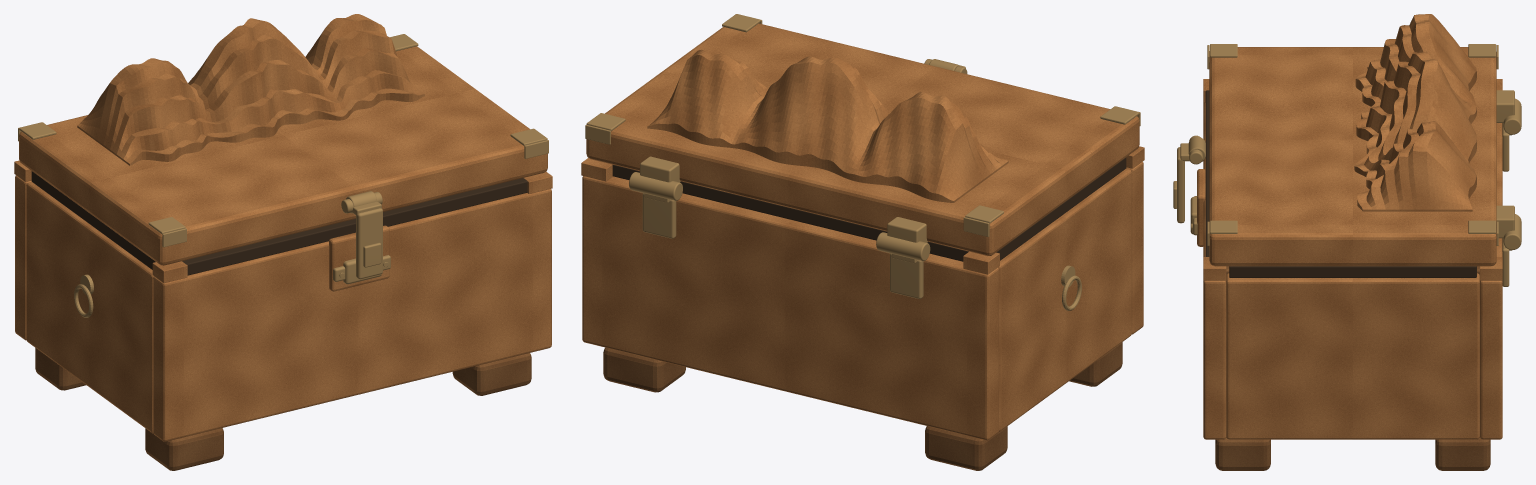
The model's file is mali.glb.
3 views of the same model, side by side, from view 1: azimuth 30°, elevation 25°; view 2: azimuth 150°, elevation 25°; view 3: azimuth 270°, elevation 25° (orthographic). The views are drawn at different scales.
Parts seen in each view (by area): view 1: Sandstone / wall, Lid / polished slab, Terrain / Bandiagara escarpment, Sandstone / side, Seam / long, Sandstone / foot, Sandstone / foot.002, Sandstone / wall.001, Latch / lifting hasp, Sandstone / clasp seat, Seam / side, Sandstone / foot.001 (+1 smaller); view 2: Sandstone / wall.001, Lid / polished slab, Terrain / Bandiagara escarpment, Sandstone / side, Seam / long.001, Sandstone / foot.001, Sandstone / foot.003, Sandstone / wall, Seam / side, Hinge / fixed mount.001, Hinge / fixed mount, Sandstone / foot (+5 smaller); view 3: Lid / polished slab, Sandstone / side.001, Terrain / Bandiagara escarpment, Sandstone / wall.001, Sandstone / wall, Seam / side.001, Sandstone / foot.003, Sandstone / foot.002, Seam / long, Sandstone / clasp seat, Hinge / moving leaf, Latch / lifting hasp (+9 smaller).
Part boxes in pixels (<box>): Sandstone / wall: <box>153,189,551,441</box>; Lid / polished slab: <box>19,46,547,265</box>; Terrain / Bandiagara escarpment: <box>77,14,424,165</box>; Sandstone / side: <box>26,182,153,433</box>; Seam / long: <box>182,178,527,275</box>; Sandstone / foot: <box>145,428,223,470</box>; Sandstone / foot.002: <box>452,353,531,395</box>; Sandstone / wall.001: <box>15,175,31,340</box>; Latch / lifting hasp: <box>356,208,382,279</box>; Sandstone / clasp seat: <box>329,225,389,291</box>; Seam / side: <box>31,171,155,269</box>; Sandstone / foot.001: <box>35,348,86,390</box>; Sandstone / wall.001: <box>582,176,998,440</box>; Lid / polished slab: <box>586,23,1139,255</box>; Terrain / Bandiagara escarpment: <box>647,49,1008,202</box>; Sandstone / side: <box>998,168,1131,431</box>; Seam / long.001: <box>612,165,968,261</box>; Sandstone / foot.001: <box>925,426,1007,470</box>; Sandstone / foot.003: <box>603,347,685,392</box>; Sandstone / wall: <box>1126,161,1143,334</box>; Seam / side: <box>996,157,1126,260</box>; Hinge / fixed mount.001: <box>642,193,676,238</box>; Hinge / fixed mount: <box>890,253,923,298</box>; Sandstone / foot: <box>1069,342,1122,386</box>; Lid / polished slab: <box>1209,47,1496,266</box>; Sandstone / side.001: <box>1226,273,1479,439</box>; Terrain / Bandiagara escarpment: <box>1354,14,1476,211</box>; Sandstone / wall.001: <box>1480,123,1502,439</box>; Sandstone / wall: <box>1203,102,1226,439</box>; Seam / side.001: <box>1229,266,1476,277</box>; Sandstone / foot.003: <box>1435,438,1490,470</box>; Sandstone / foot.002: <box>1215,438,1270,470</box>; Seam / long: <box>1205,90,1209,256</box>; Sandstone / clasp seat: <box>1197,169,1205,246</box>; Hinge / moving leaf: <box>1496,90,1514,122</box>; Latch / lifting hasp: <box>1177,147,1184,223</box>.
Bounding box in the file's own units: 3.79 × 3 × 2.88.
Materials: 4 (2 with a texture image).
